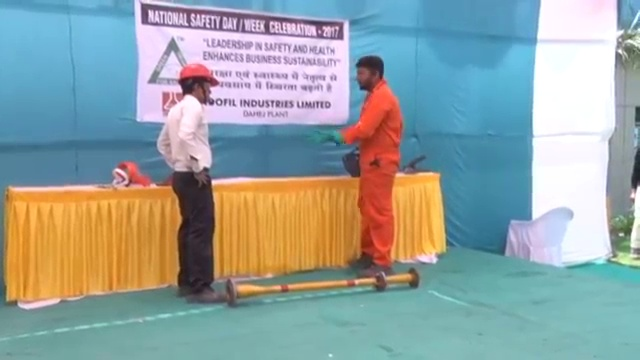helmet: (180, 62, 218, 89)
helmet_off: (353, 52, 386, 91)
helmet_on: (177, 62, 219, 107)
person: (152, 62, 228, 305), (341, 52, 404, 277)
